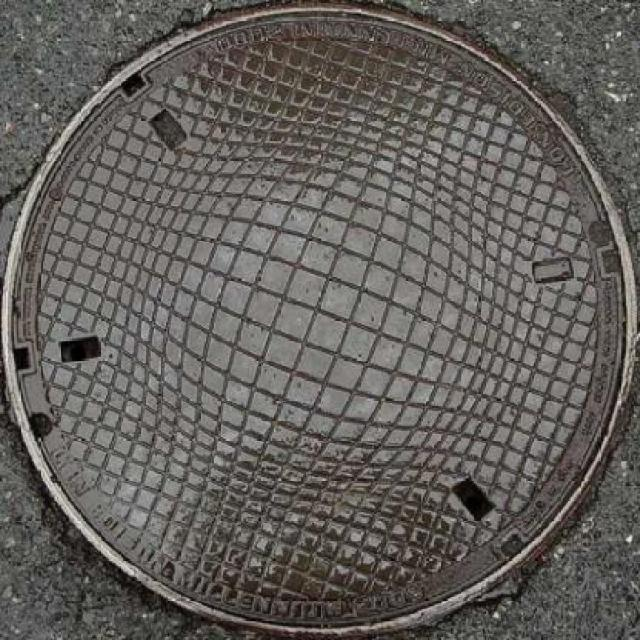Manhole: (6, 16, 634, 621)
